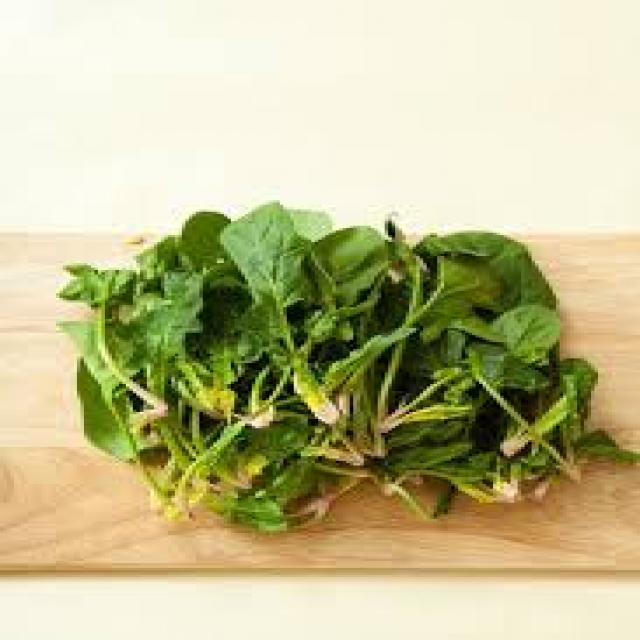spinach: (61, 205, 600, 532)
